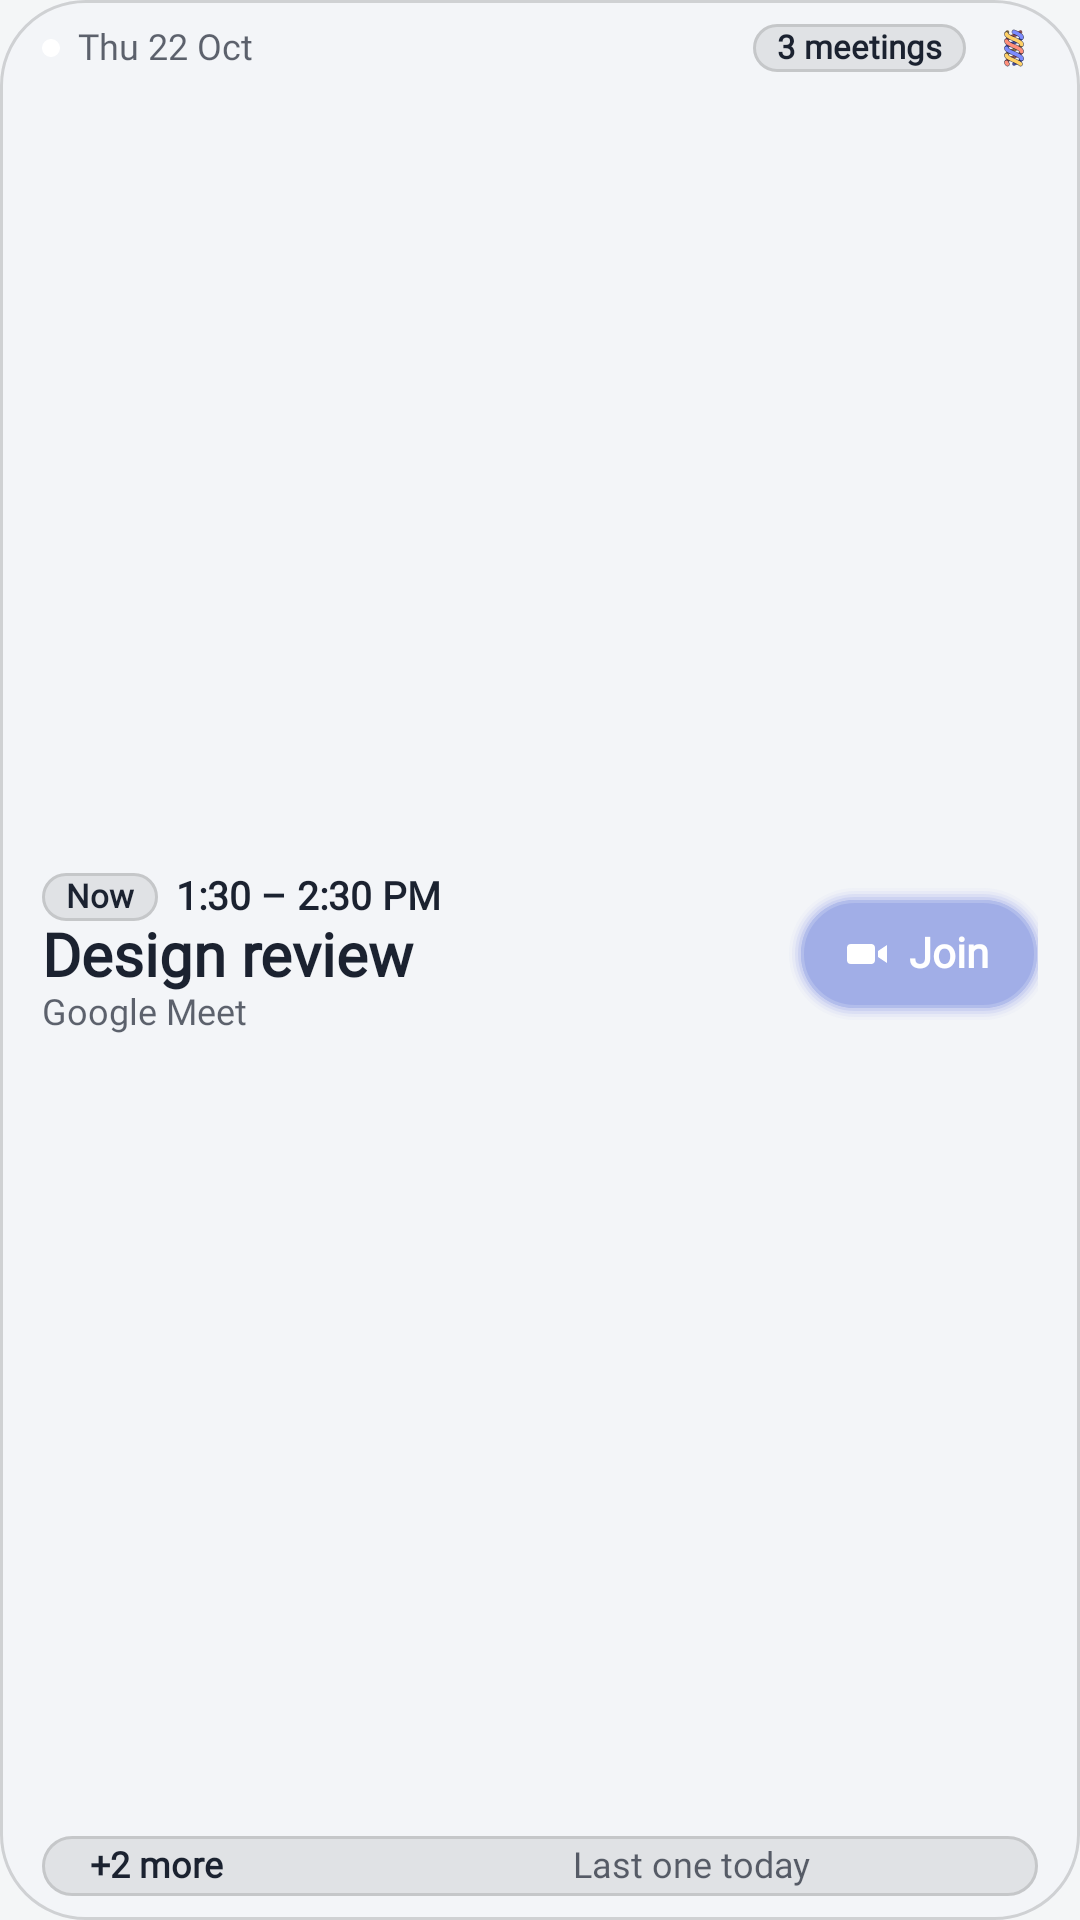

Icon click points for this 1080px×1920px phone screenshot, format point (x, y):
plait mark: point (1014, 48)
widget video: point (867, 954)
